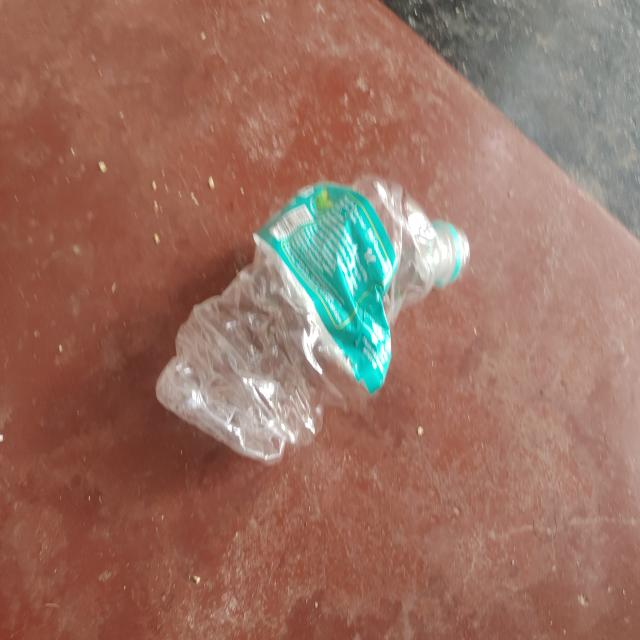plastic: (159, 170, 470, 465)
